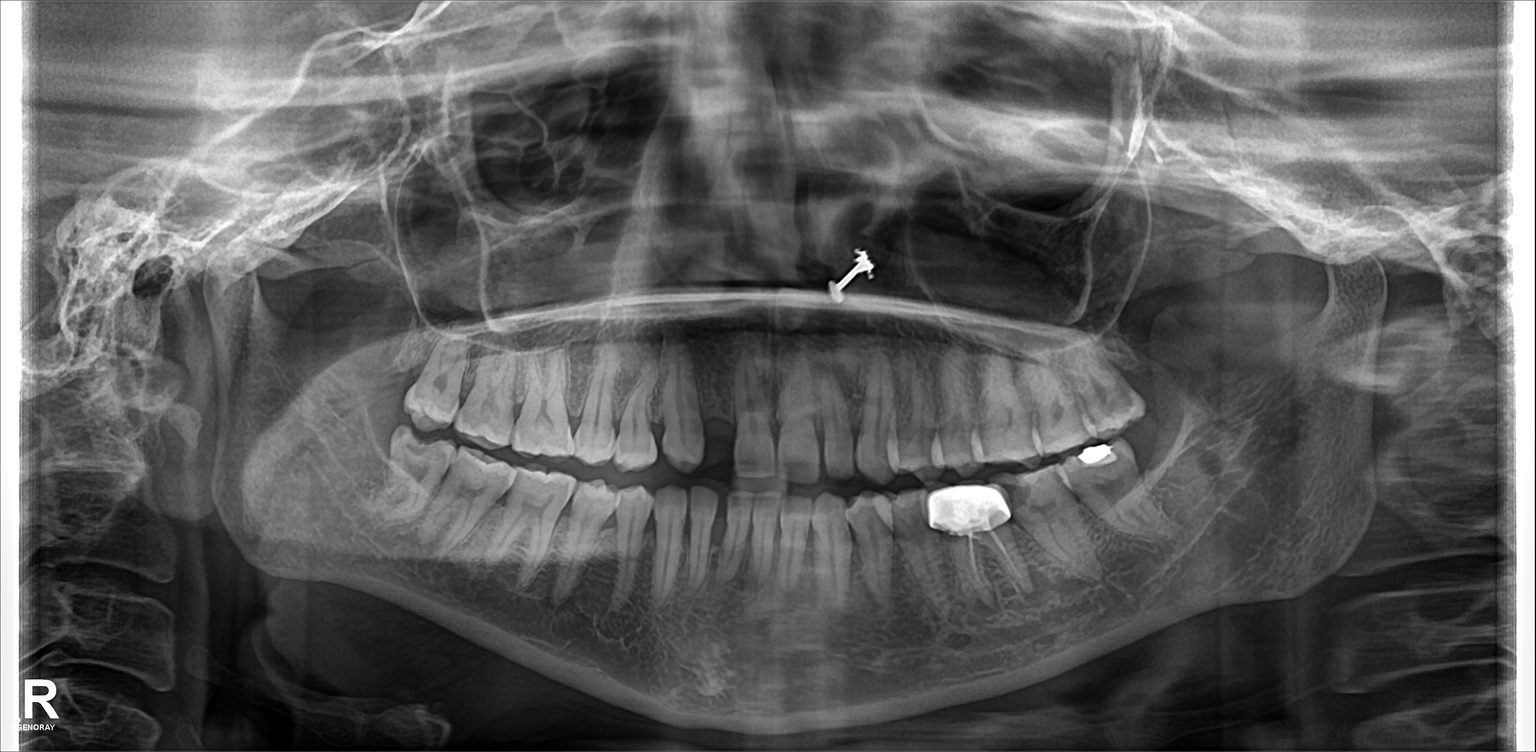Endodontically Treated Tooth: (933, 490, 1022, 609)
Impacted Third Molar: (383, 434, 447, 523)
Missing Tooth: (380, 322, 420, 408), (704, 361, 733, 471), (1145, 434, 1174, 502)
